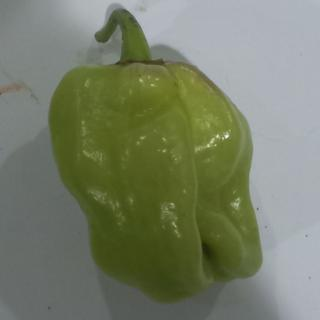Grade-A: (42, 51, 269, 302)
